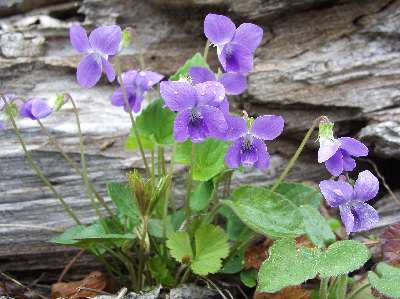violet: (150, 71, 233, 143), (199, 10, 270, 79), (218, 109, 291, 175), (65, 14, 124, 94), (317, 170, 380, 238), (311, 114, 368, 172)
